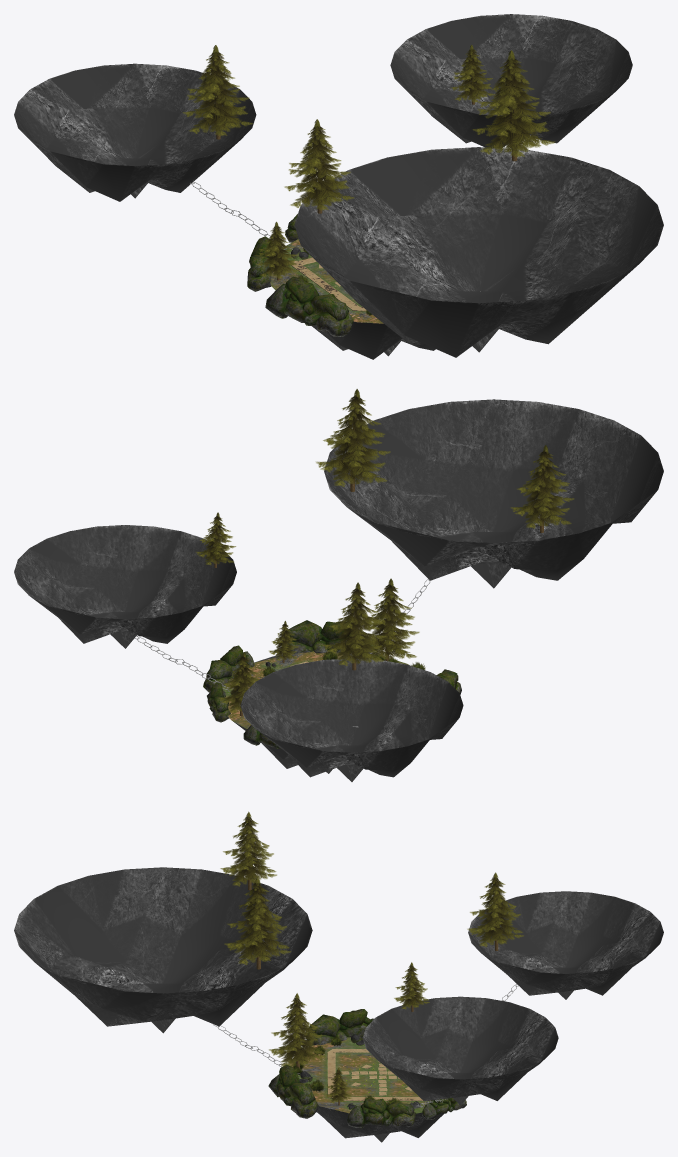
The picture shows the model from 3 angles, top to bottom: view 1: azimuth 30°, elevation 25°; view 2: azimuth 150°, elevation 25°; view 3: azimuth 270°, elevation 25°; orthographic projection. The views are drawn at different scales.
Parts seen in each view (by area): view 1: Lower_base2 (×3), Tree7, Tree6, Tree4, S_6, Lower_base, Base, Tree5, Tree3, S_5, B_02; view 2: Lower_base2 (×3), Tree7, Tree4, Tree6, Tree2, S_7, Base, S_8, Tree5, Tree1, Tree8, S_4; view 3: Lower_base2 (×3), Base, Tree7, Tree4, Tree6, Tree2, Lower_base, S_8, S_7, S_6, Tree5, S_4 (+1 smaller).
Part boxes in pixels (x1,y1,x2,y2): Lower_base2 (×3): (14, 14, 663, 357); Tree7: (473, 50, 554, 161); Tree6: (284, 119, 354, 213); Tree4: (183, 45, 252, 139); S_6: (265, 276, 353, 336); Lower_base: (312, 321, 435, 359); Base: (270, 239, 383, 323); Tree5: (451, 44, 494, 104); Tree3: (256, 221, 299, 280); S_5: (247, 236, 275, 291); B_02: (289, 261, 364, 311); Lower_base2 (×3): (14, 399, 663, 781); Tree7: (316, 389, 390, 491); Tree4: (323, 582, 386, 670); Tree6: (511, 445, 574, 532); Tree2: (359, 578, 419, 660); S_7: (287, 620, 376, 654); Base: (222, 650, 408, 728); S_8: (203, 645, 254, 692); Tree5: (196, 512, 235, 567); Tree1: (219, 652, 259, 716); Tree8: (269, 621, 298, 662); S_4: (207, 683, 230, 722); Lower_base2 (×3): (14, 867, 663, 1105); Base: (288, 1037, 429, 1113); Tree7: (224, 877, 290, 969); Tree4: (467, 872, 523, 950); Tree6: (220, 811, 276, 890); Tree2: (269, 993, 325, 1068); Lower_base: (315, 1044, 443, 1142); S_8: (347, 1098, 415, 1128); S_7: (268, 1064, 319, 1118); S_6: (306, 1009, 373, 1046); Tree5: (394, 962, 429, 1011); S_4: (422, 1098, 466, 1119).
Bounding box in the file's own units: 1.13 × 0.7268 × 1.51.
8 materials, 8 textured.
